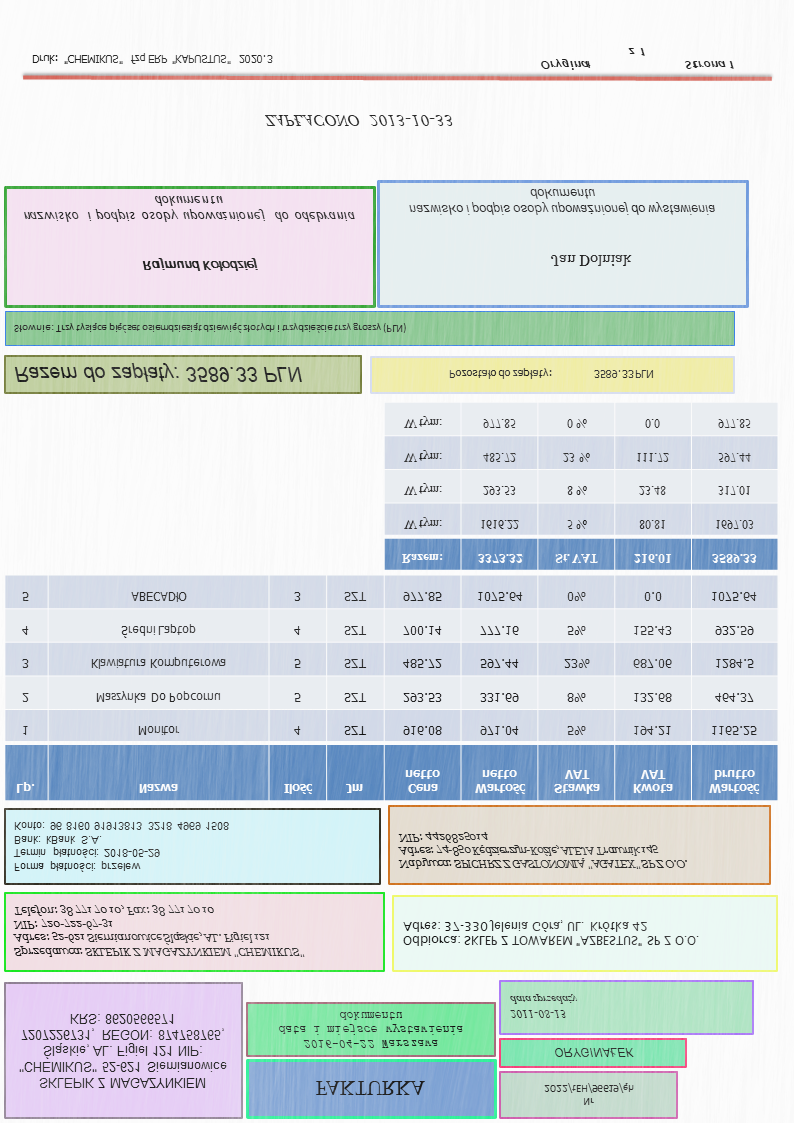Table: (3, 574, 779, 802), (383, 401, 779, 573)
TextBox: (9, 902, 309, 961), (17, 1010, 230, 1092), (396, 829, 690, 873), (10, 819, 230, 875), (21, 193, 356, 224), (407, 186, 716, 219), (400, 918, 701, 949), (276, 1008, 466, 1051), (11, 363, 305, 388), (10, 321, 408, 336), (538, 46, 737, 72), (30, 52, 274, 68), (264, 111, 453, 130), (447, 367, 654, 382), (542, 1080, 636, 1108), (311, 1077, 427, 1099), (139, 256, 259, 274), (507, 992, 578, 1022), (548, 250, 635, 270), (551, 1045, 636, 1062)
